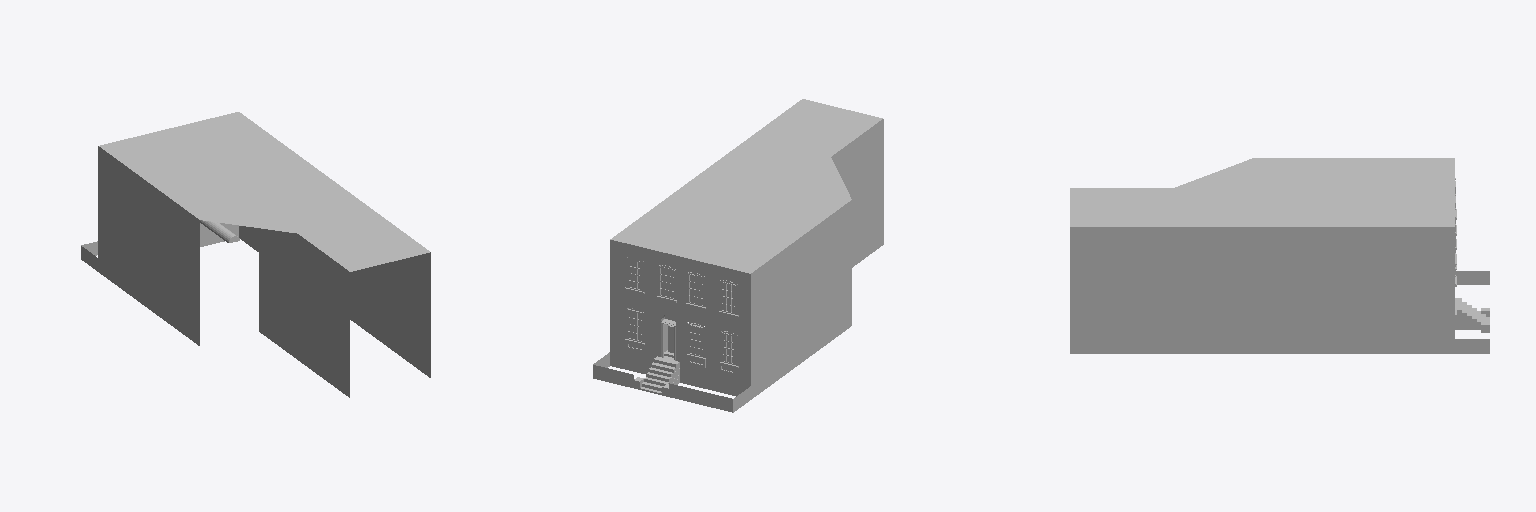
Rendered from marble3.obj.
The picture shows the model from 3 angles: view 1: azimuth 30°, elevation 25°; view 2: azimuth 150°, elevation 25°; view 3: azimuth 270°, elevation 25°; orthographic projection.
Parts seen in each view (by area): view 1: Mesh10 Model; view 2: Mesh10 Model; view 3: Mesh10 Model.
Boxes of the visible parts, x1=… form: Mesh10 Model: x1=81, y1=112, x2=430, y2=397; Mesh10 Model: x1=593, y1=99, x2=883, y2=412; Mesh10 Model: x1=1070, y1=158, x2=1489, y2=353.
Bounding box in the file's own units: 482 × 414 × 1245.